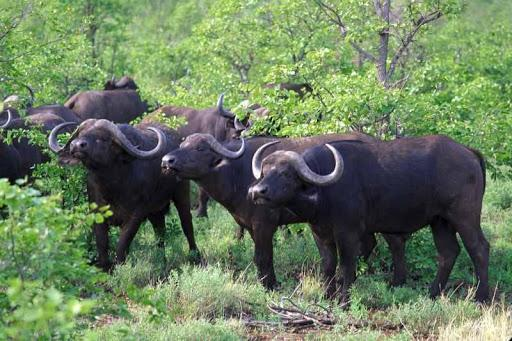Buffalo: (17, 86, 485, 282)
